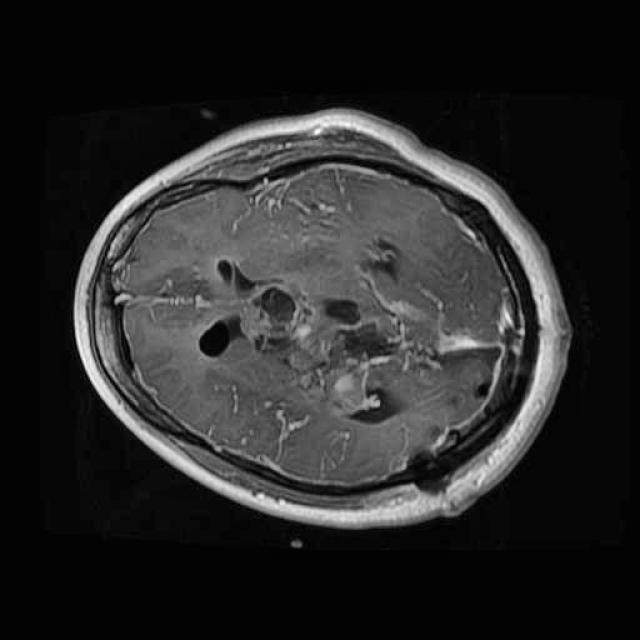Non-Tumor: (230, 272, 381, 424)
